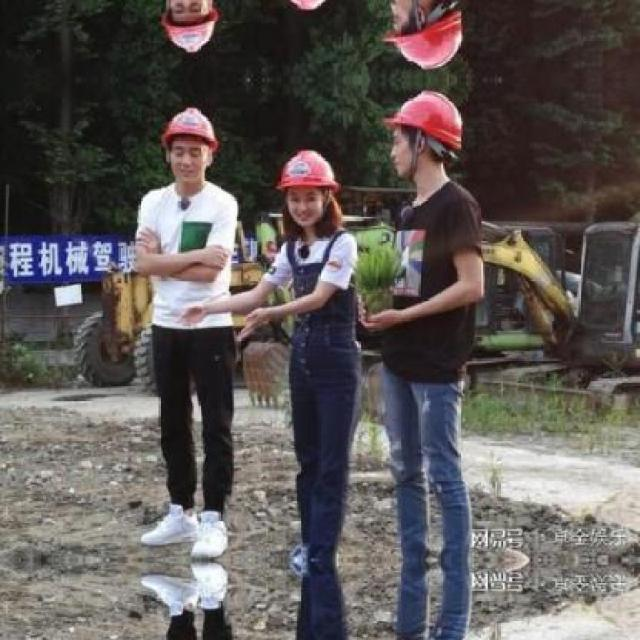helmet: (379, 85, 470, 188), (378, 0, 470, 75), (157, 101, 221, 188), (274, 147, 340, 231), (157, 0, 223, 60)
